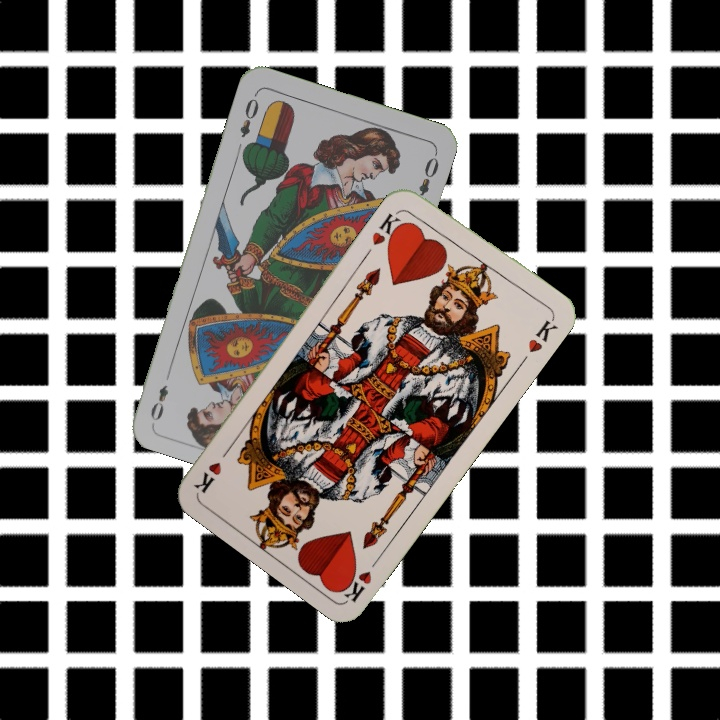EO: (235, 89, 262, 140)
HK: (337, 550, 384, 605), (367, 205, 408, 251)
